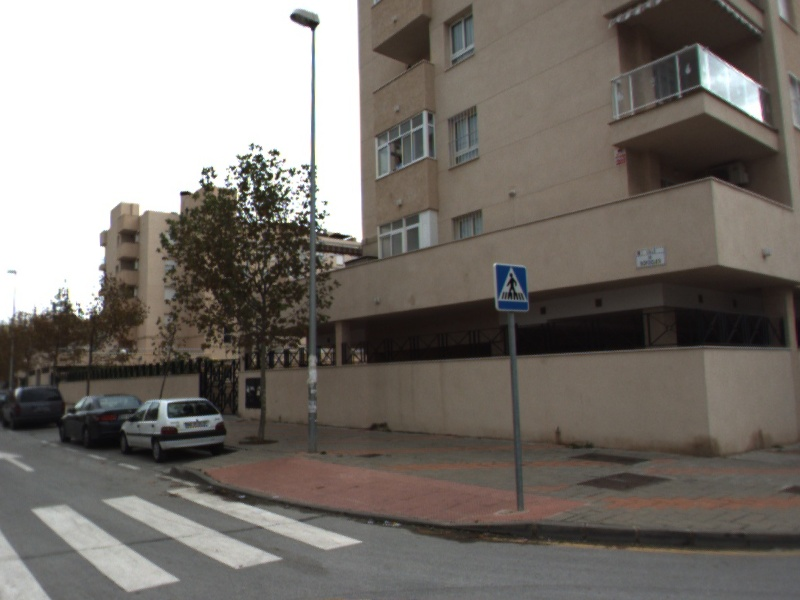STRAIGHT: (1, 448, 38, 475)
